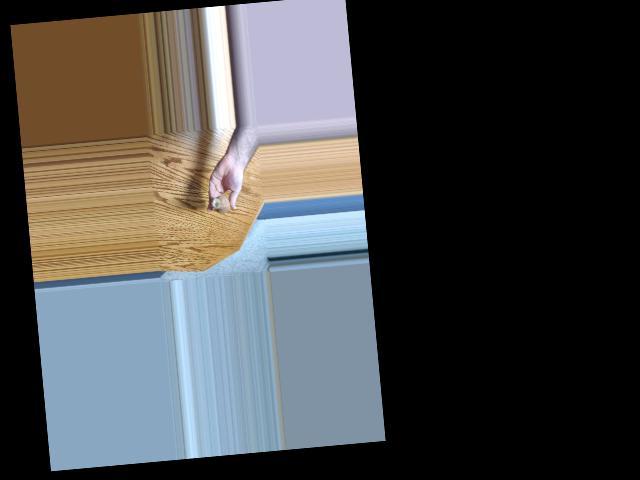sweet_potato: (212, 195, 231, 215)
